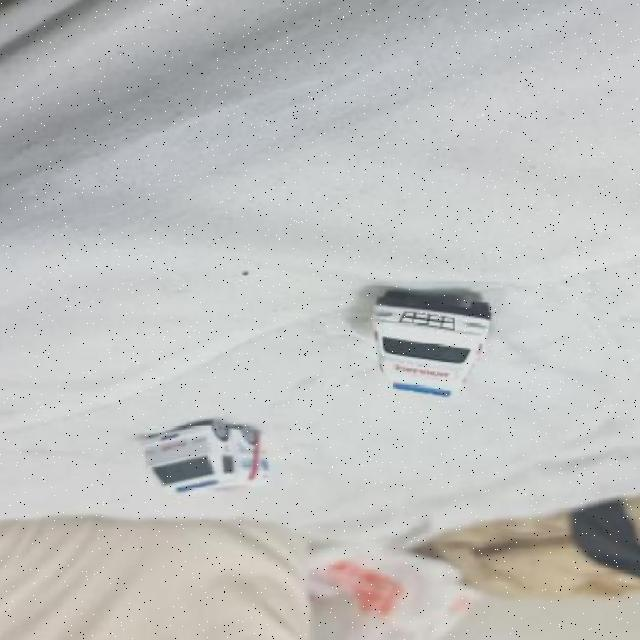car: (366, 284, 495, 408), (135, 419, 278, 500)
